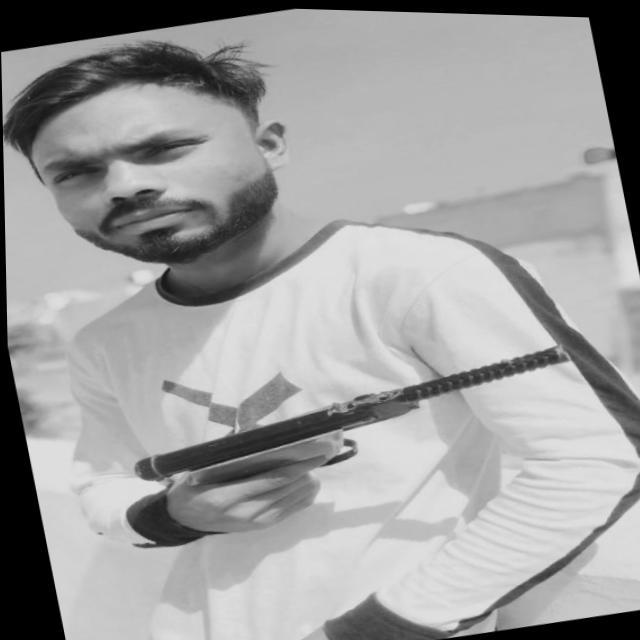weapon: (112, 314, 640, 556)
